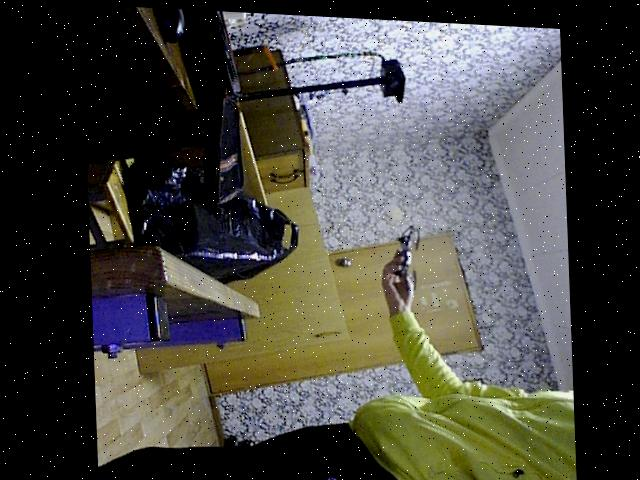drone: (378, 214, 434, 302)
